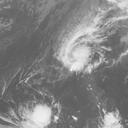cyclone: (62, 36, 96, 74)
